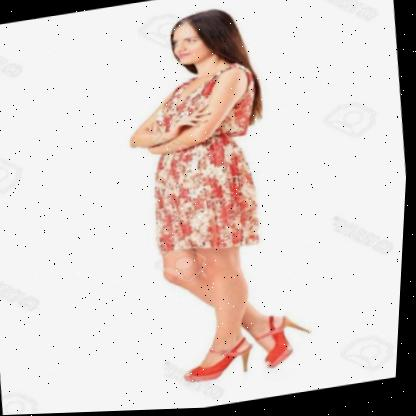person: (125, 0, 313, 411)
